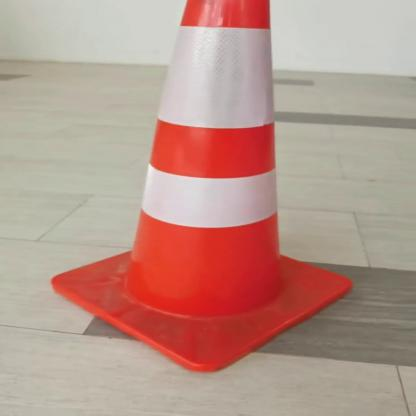cone: (44, 0, 370, 371)
